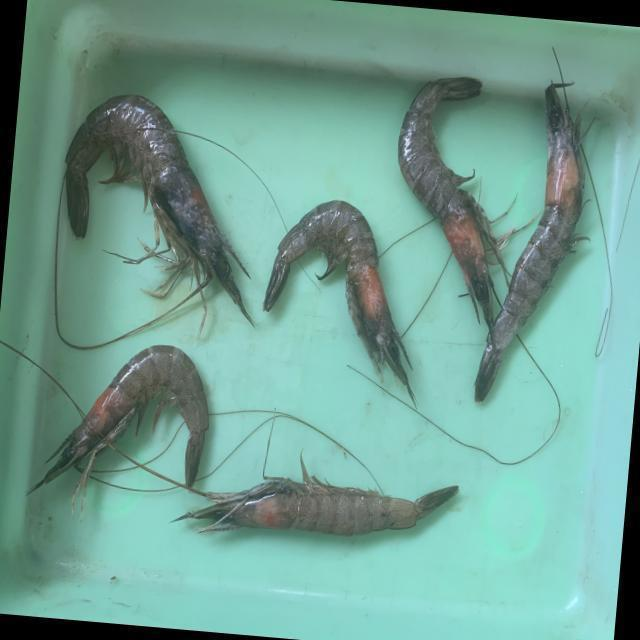shrimp: (64, 93, 252, 323), (475, 83, 585, 401), (263, 199, 413, 399), (26, 344, 208, 508), (398, 76, 504, 329), (176, 457, 459, 536)
